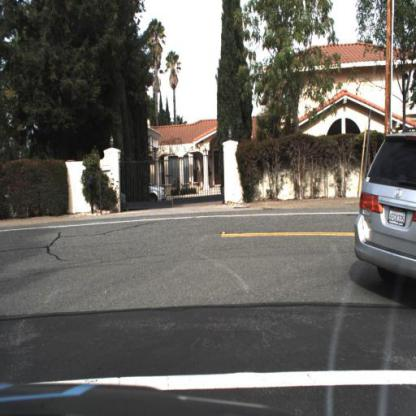car: (354, 127, 416, 301), (141, 181, 168, 205), (148, 183, 167, 204)
